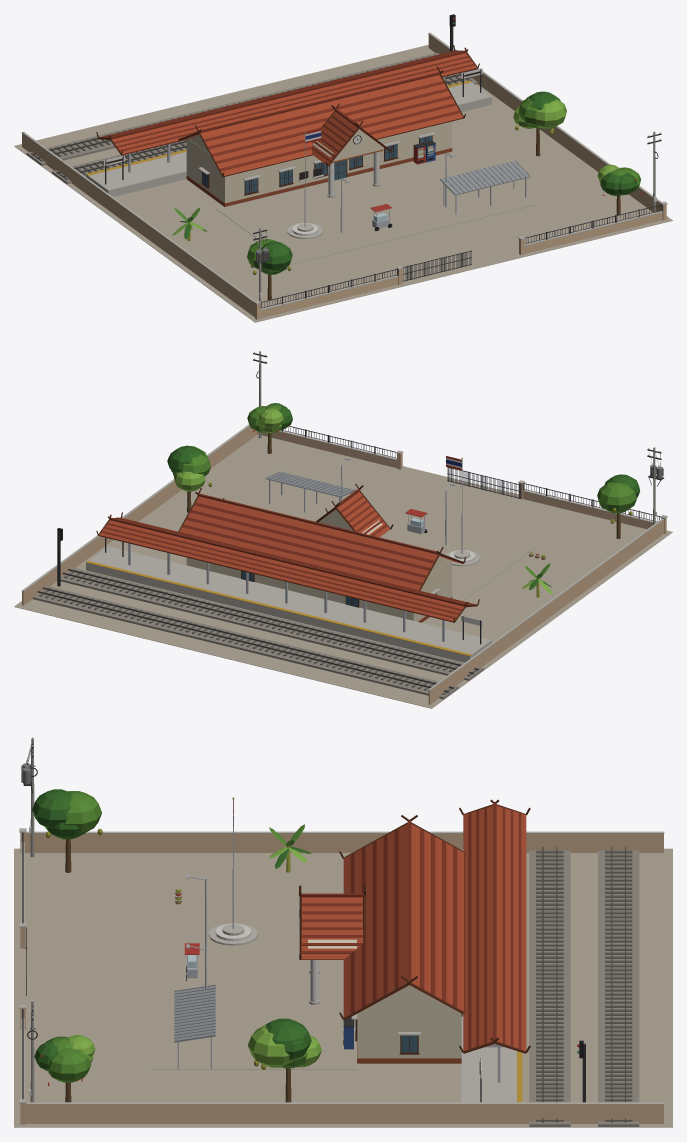
Rendered from station.glb.
3 renders of one model, top to bottom at view 1: azimuth 30°, elevation 25°; view 2: azimuth 150°, elevation 25°; view 3: azimuth 270°, elevation 25°, orthographic. The views are drawn at different scales.
Parts seen in each view (by area): view 1: body, windows; view 2: body; view 3: body.
Part boxes in pixels (x1=…): body: x1=14, y1=14, x2=672, y2=322; windows: x1=202, y1=17, x2=454, y2=193; body: x1=14, y1=351, x2=672, y2=708; body: x1=14, y1=737, x2=672, y2=1127.
Bounding box in the file's own units: 47.9 × 11.16 × 47.9.
